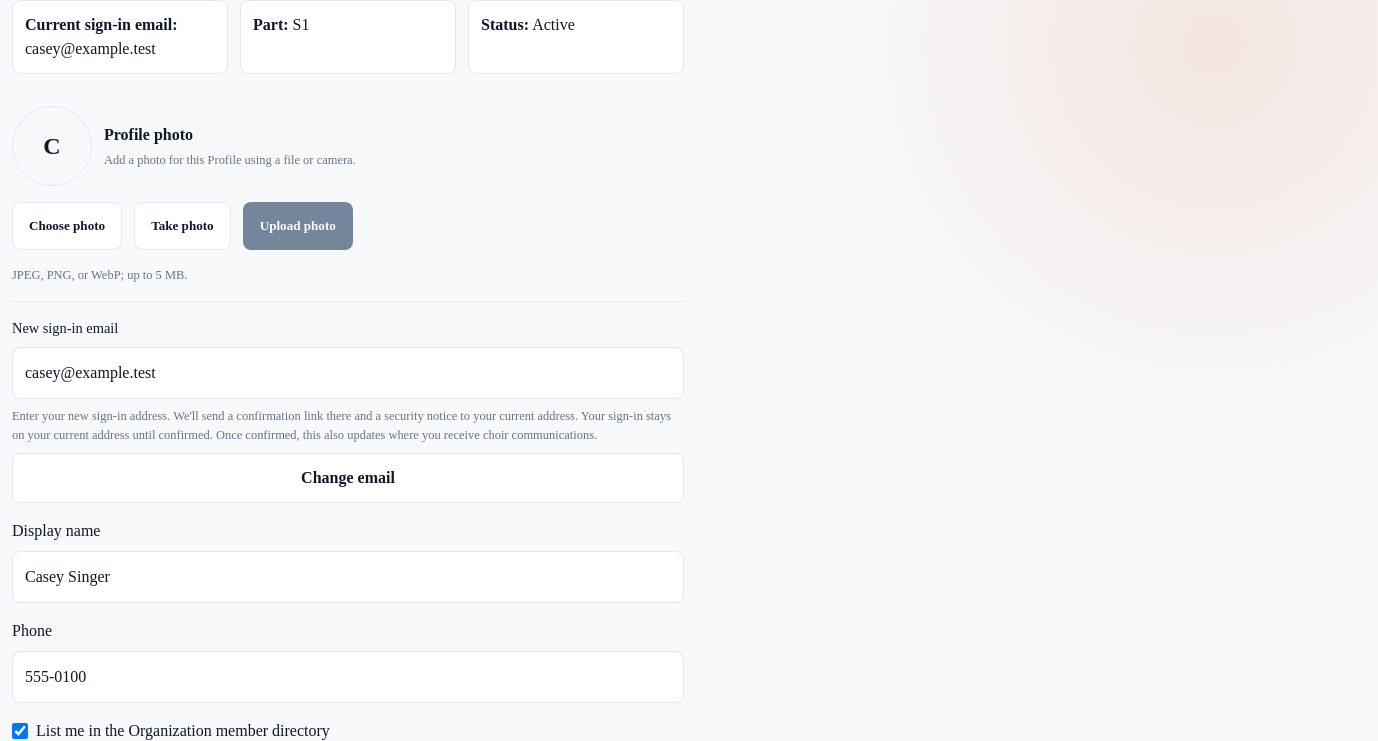
MemberProfileDirectory email-change verification (#198) › prevents requesting a change to the existing sign-in email address
Expected: the field labelled "Display name" is shown, [12, 551, 684, 603]
Expected: the field labelled "New sign-in email" holds "casey@example.test", [12, 347, 684, 399]
Click the button "Change email": (348, 478) [12, 453, 684, 503]
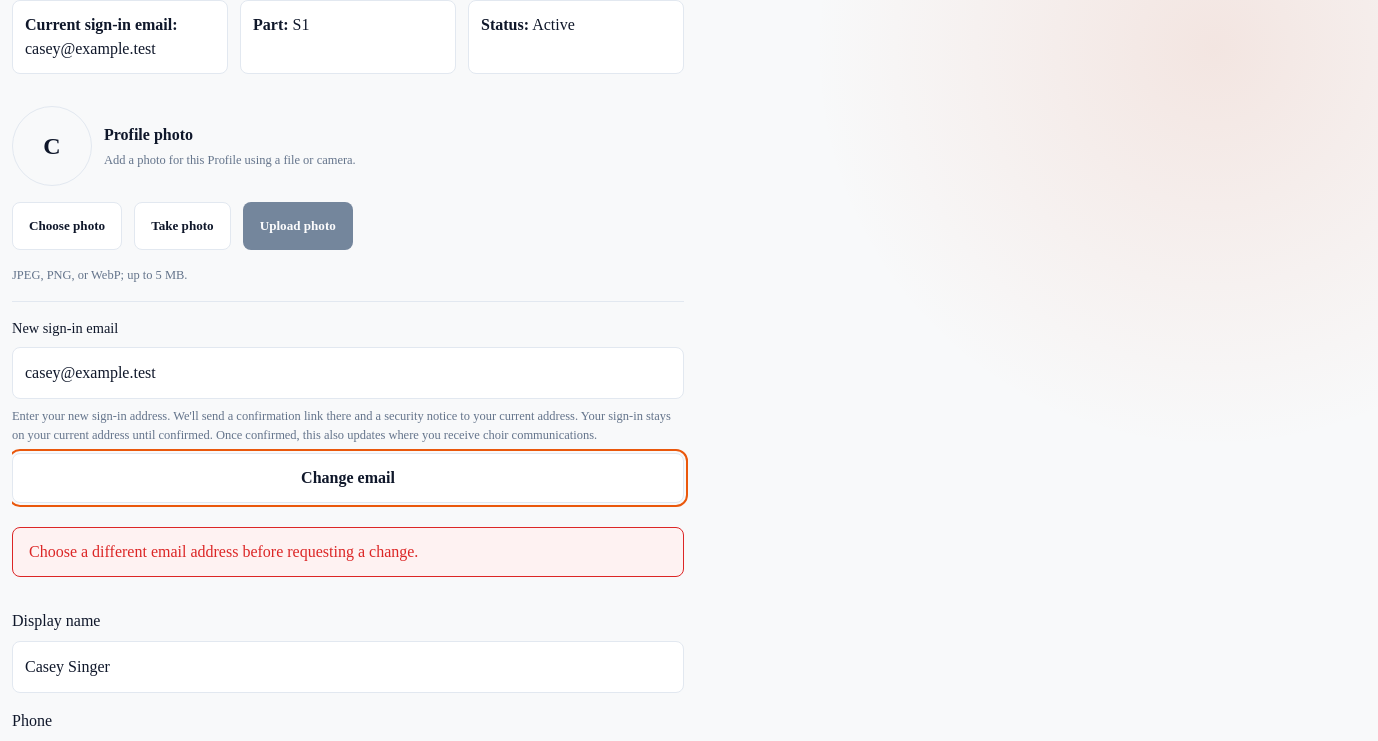
Expected: the message reads "Choose a different email address before requesting a change.", [29, 543, 418, 560]
